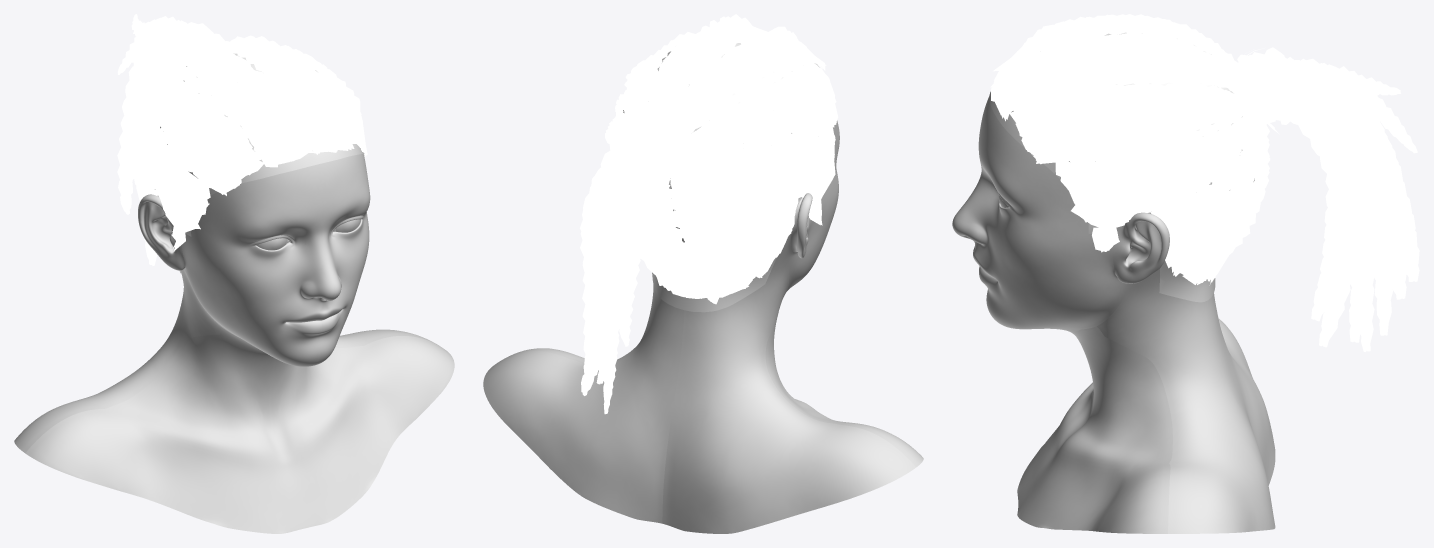
Rendered from Cabelo_Mariano_Test_Verdadeiro_Dois.glb.
3 views of the same model, side by side, from view 1: azimuth 30°, elevation 25°; view 2: azimuth 150°, elevation 25°; view 3: azimuth 270°, elevation 25° (orthographic). The views are drawn at different scales.
Visible parts, largest first — view 1: Head, Hair, Scalp.001; view 2: Head, Hair, Scalp.001; view 3: Hair, Head, Scalp.001.
Part boxes in pixels (x1,y1,x2,y2): Head: (14, 154, 454, 533); Hair: (117, 14, 367, 265); Scalp.001: (155, 53, 364, 273); Head: (483, 120, 923, 533); Hair: (580, 14, 838, 414); Scalp.001: (623, 43, 833, 312); Hair: (990, 14, 1419, 351); Head: (952, 96, 1275, 533); Scalp.001: (989, 32, 1254, 302).
Size of the model in its own units: 0.3005 by 0.2987 by 0.2652.
2 materials, 2 textured.
